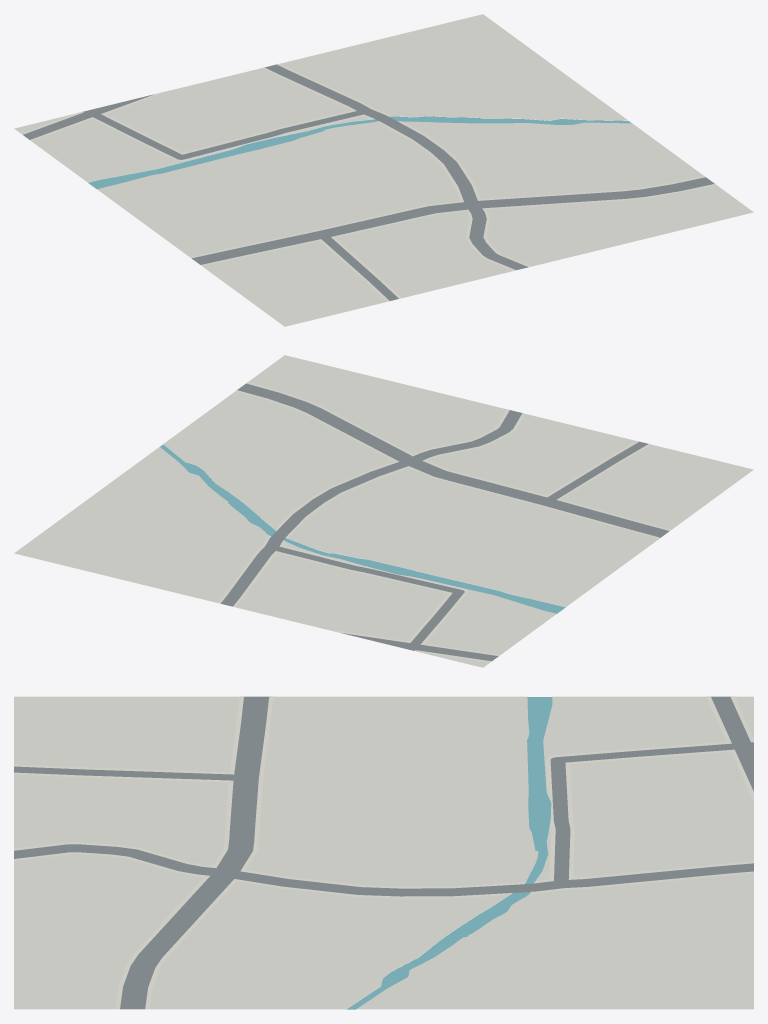
The picture shows the model from 3 angles, top to bottom: view 1: azimuth 30°, elevation 25°; view 2: azimuth 150°, elevation 25°; view 3: azimuth 270°, elevation 25°; orthographic projection. The views are drawn at different scales.
Visible parts, largest first — view 1: city; view 2: city; view 3: city.
Boxes of the visible parts, x1,y1,x2,y2 form: city: (14,14,753,326); city: (14,355,753,667); city: (14,696,753,1009).
Bounding box in the file's own units: 500 × 0.4 × 500.
